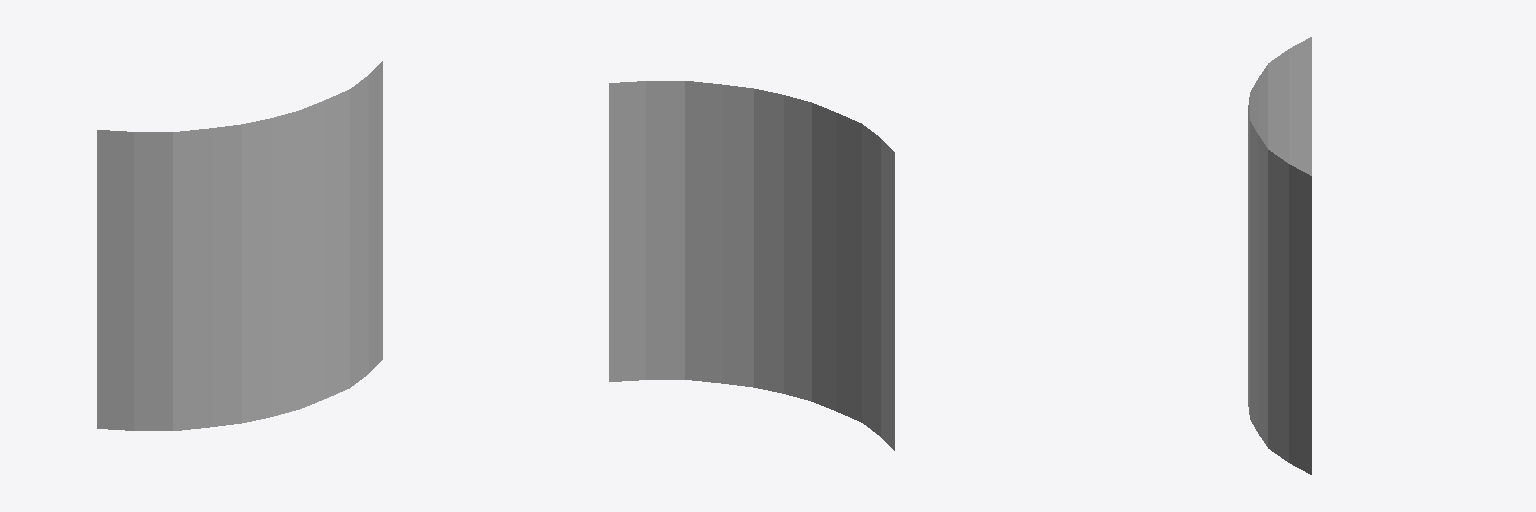
The model's file is planeArcMesh.obj.
3 views of the same model, side by side, from view 1: azimuth 30°, elevation 25°; view 2: azimuth 150°, elevation 25°; view 3: azimuth 270°, elevation 25° (orthographic).
Parts seen in each view (by area): view 1: pPlane1; view 2: pPlane1; view 3: pPlane1.
Boxes of the visible parts, x1,y1,x2,y2 form: pPlane1: [97, 61, 382, 430]; pPlane1: [609, 81, 894, 450]; pPlane1: [1248, 37, 1311, 474].
Size of the model in its own units: 24.71 by 24.71 by 4.74.